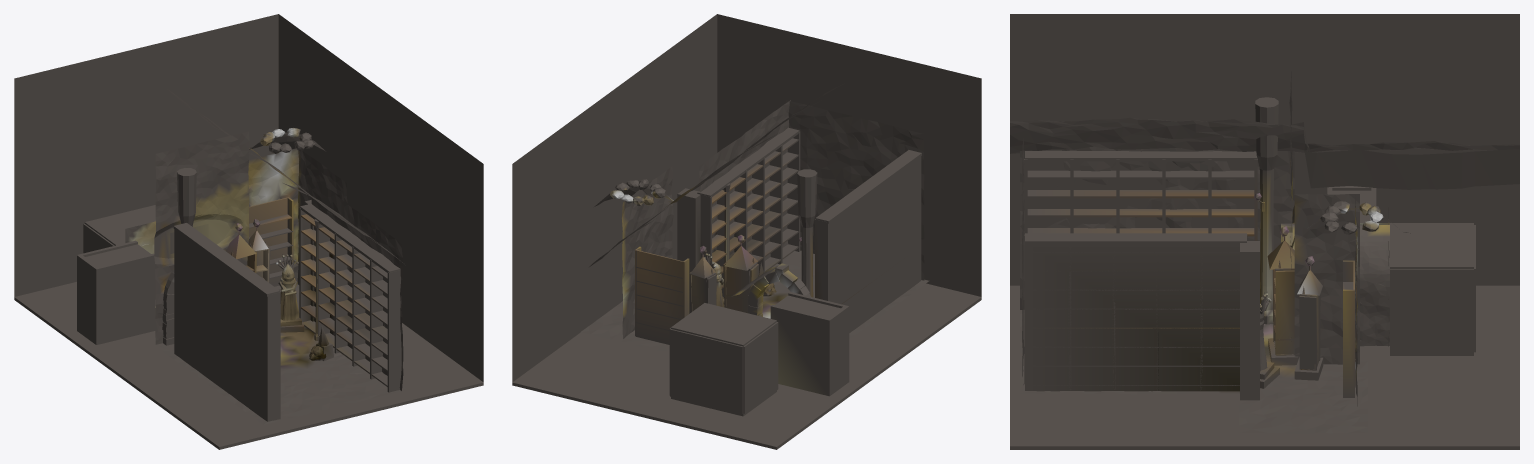
File: hall_proxy.glb
3 views of the same model, side by side, from view 1: azimuth 30°, elevation 25°; view 2: azimuth 150°, elevation 25°; view 3: azimuth 270°, elevation 25° (orthographic). The views are drawn at different scales.
Visible parts, largest first — view 1: HallProxy; view 2: HallProxy; view 3: HallProxy.
Part boxes in pixels (bbox=[...]): HallProxy: bbox=[14, 14, 483, 449]; HallProxy: bbox=[512, 14, 981, 449]; HallProxy: bbox=[1010, 14, 1519, 449].
Size of the model in its own units: 19 by 15.2 by 25.5.
